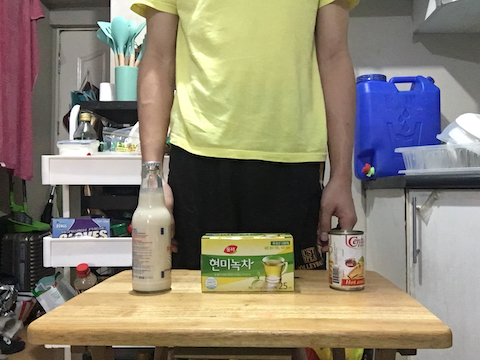bottle: (127, 160, 178, 293)
box: (197, 229, 298, 297)
can: (325, 225, 369, 294)
